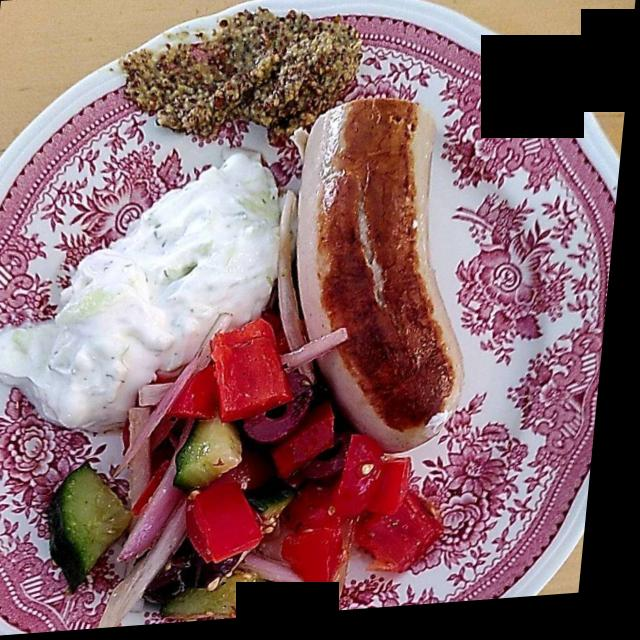bell-pepper-red-raw: (177, 319, 448, 588)
cucumber: (57, 429, 285, 617)
green-olives: (260, 368, 322, 448)
onion: (116, 326, 224, 615)
sesame-seeds: (344, 462, 395, 492)
tzatziki: (9, 153, 290, 439)
veal-sausage: (308, 98, 482, 457)
